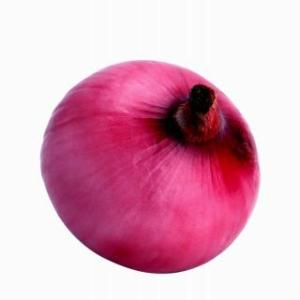onion: (41, 58, 263, 276)
